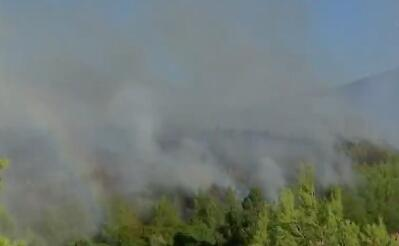yanwu: (1, 0, 365, 220)
